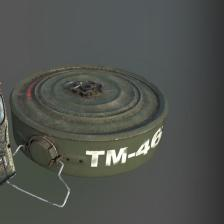TM-46: (13, 57, 177, 190)
